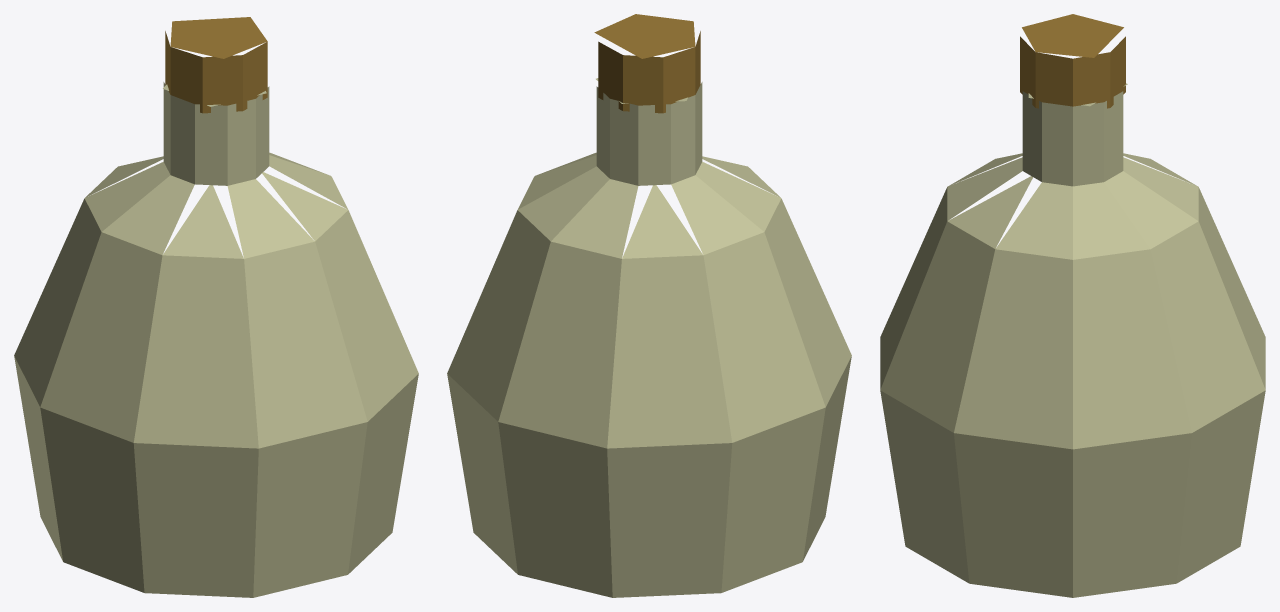
Rendered from tihaar.lod.glb.
The picture shows the model from 3 angles, left to right: view 1: azimuth 30°, elevation 25°; view 2: azimuth 150°, elevation 25°; view 3: azimuth 270°, elevation 25°; orthographic projection.
Visible parts, largest first — view 1: m; view 2: m; view 3: m.
Part boxes in pixels (box(x1,y1,x2,y2)): m: box(14, 17, 418, 597); m: box(447, 14, 851, 597); m: box(880, 14, 1265, 597).
Bounding box in the file's own units: 0.092 × 0.122 × 0.0875.
